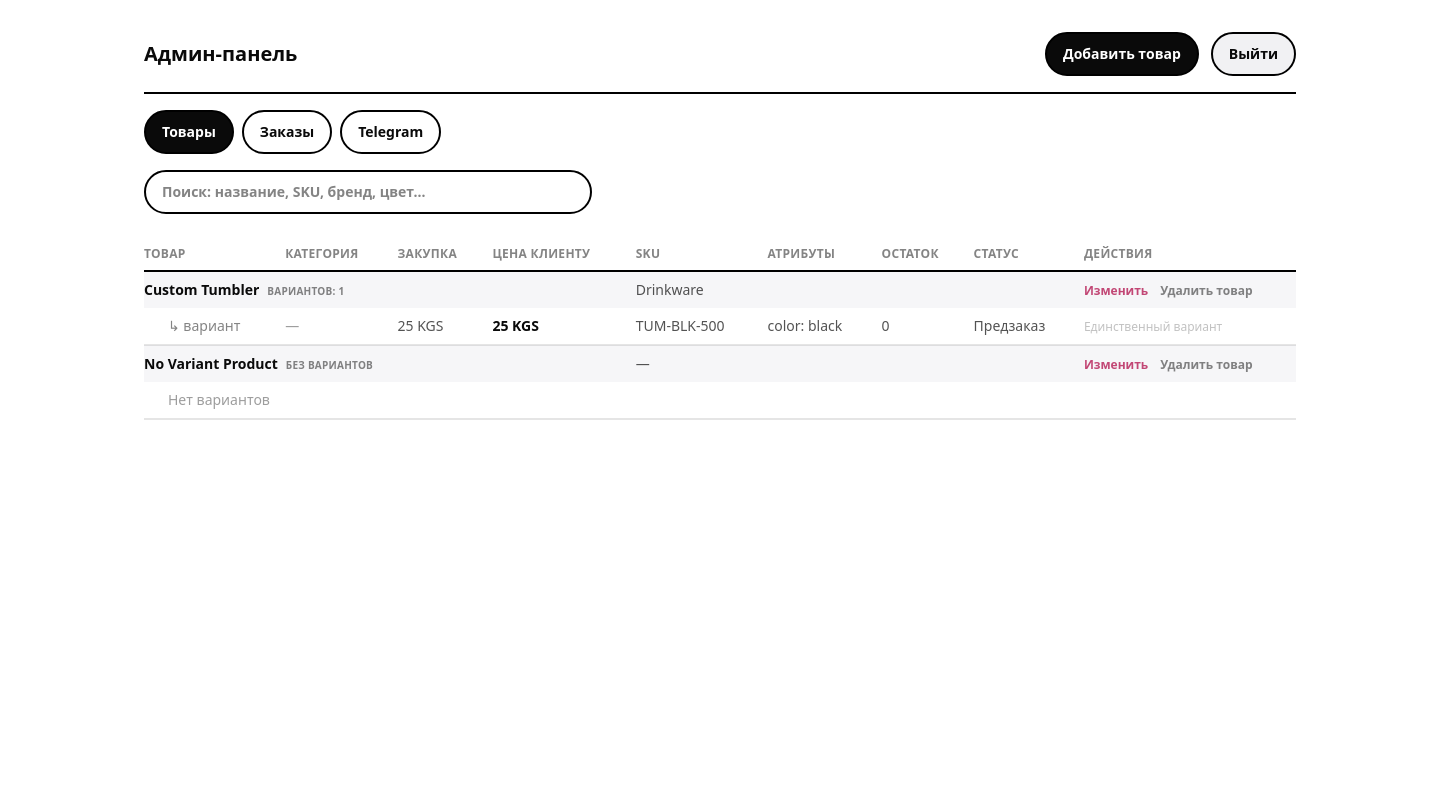
Test: AdminDashboard › opens the create form when Add product is clicked
Click the button "Добавить товар" at {"x": 1122, "y": 54}, box [1045,32,1199,76]
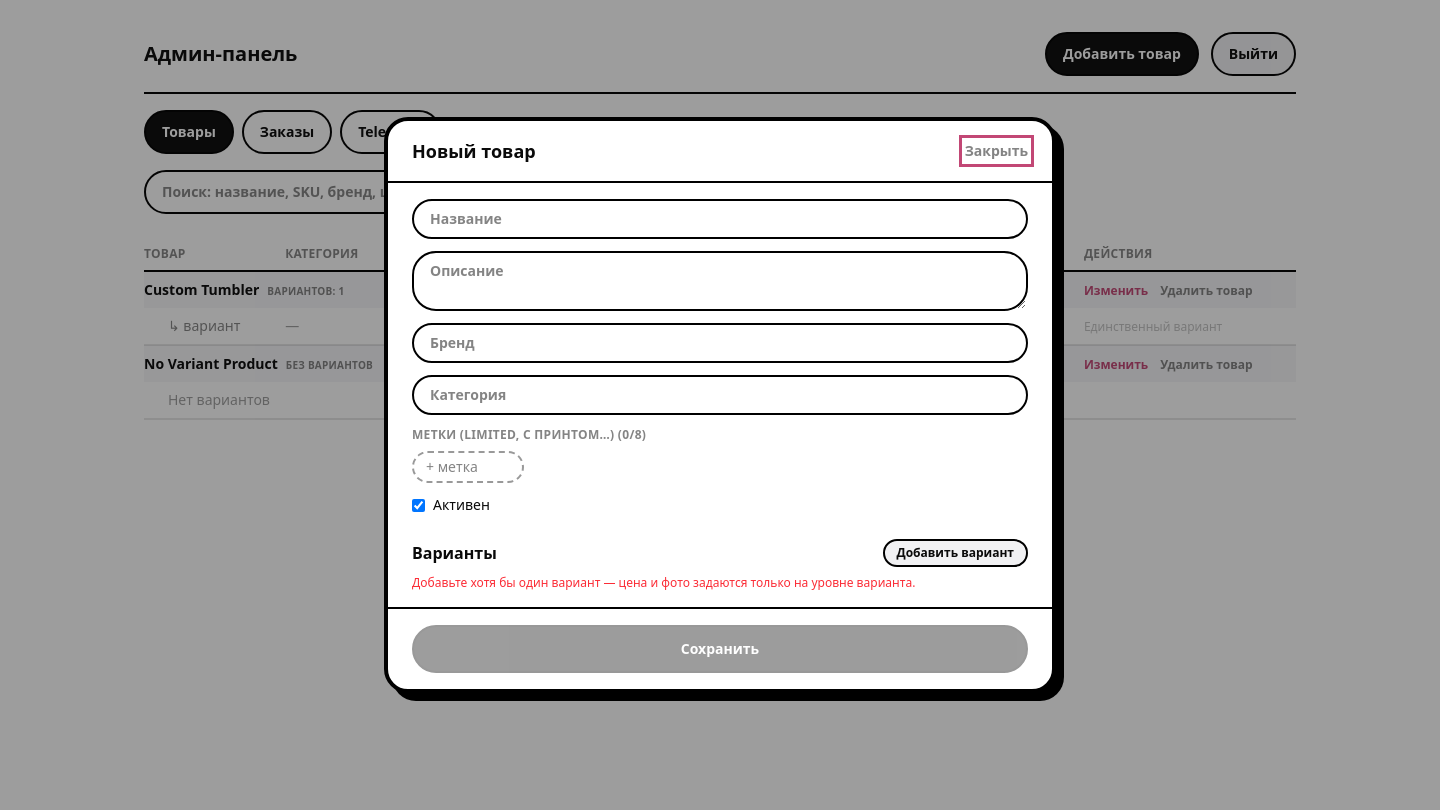
Expected: the heading "Новый товар" is shown, [412,137,536,165]
